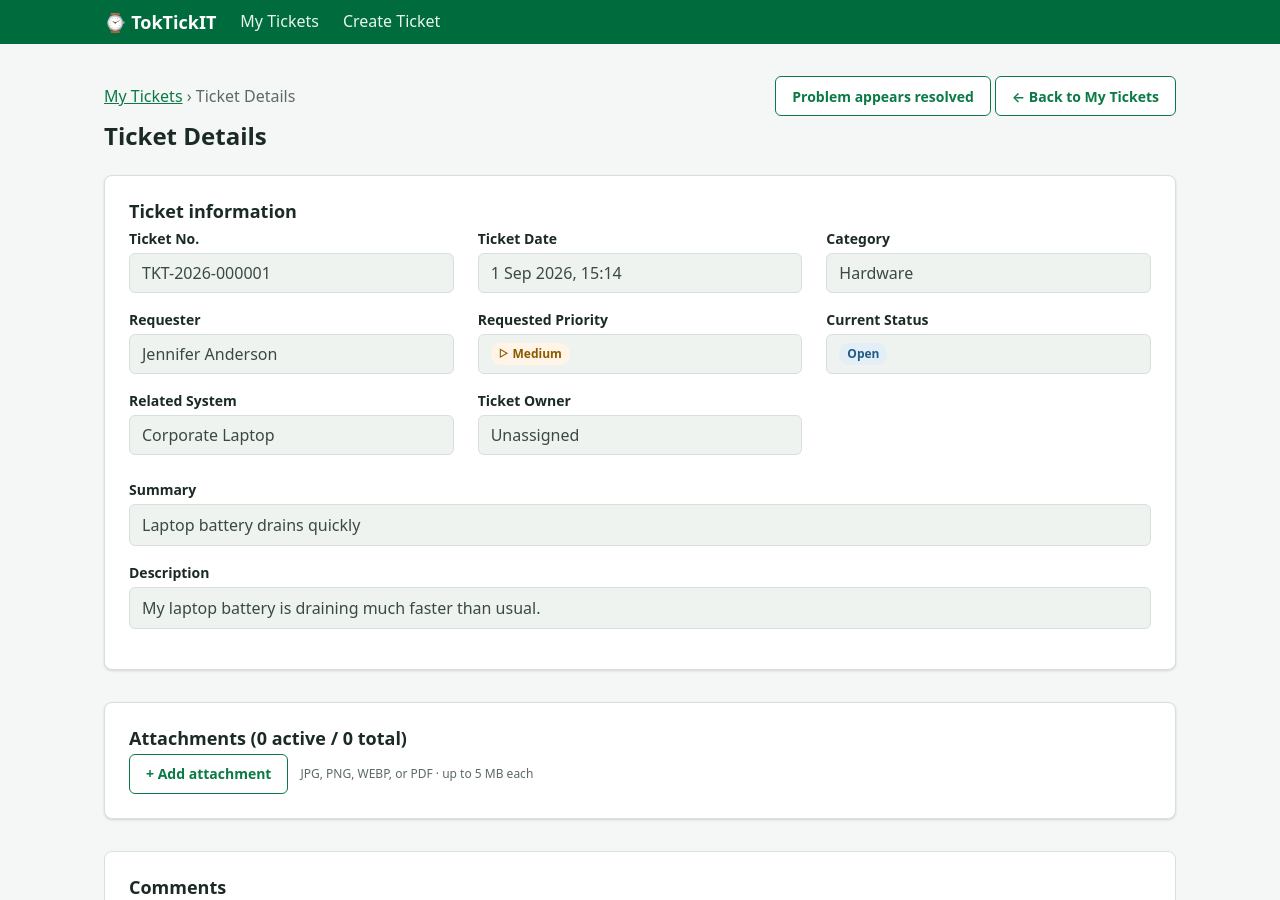
"Problem Appears Resolved" (ui-spec.md §7) › a 409 conflict closes the dialog and shows the exact conflict banner with a Refresh action; Refresh re-fetches the ticket
Expected: the text "TKT-2026-000001" is shown, [129, 253, 454, 293]
Click the button "Problem appears resolved": {"x": 883, "y": 96} [775, 76, 991, 116]
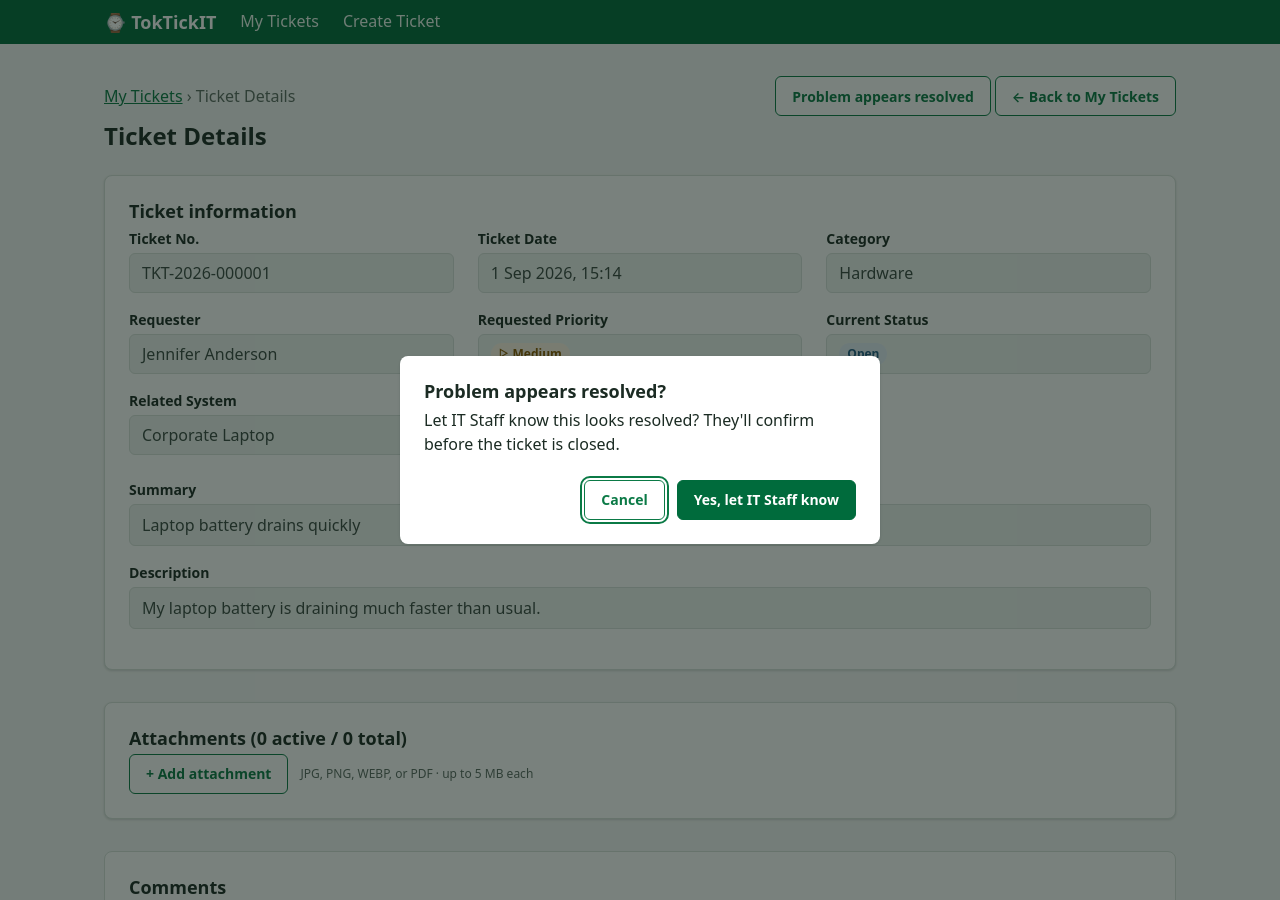
Expected: the dialog is shown, [400, 356, 880, 544]
Click the button "Yes, let IT Staff know": {"x": 766, "y": 500} [677, 480, 856, 520]
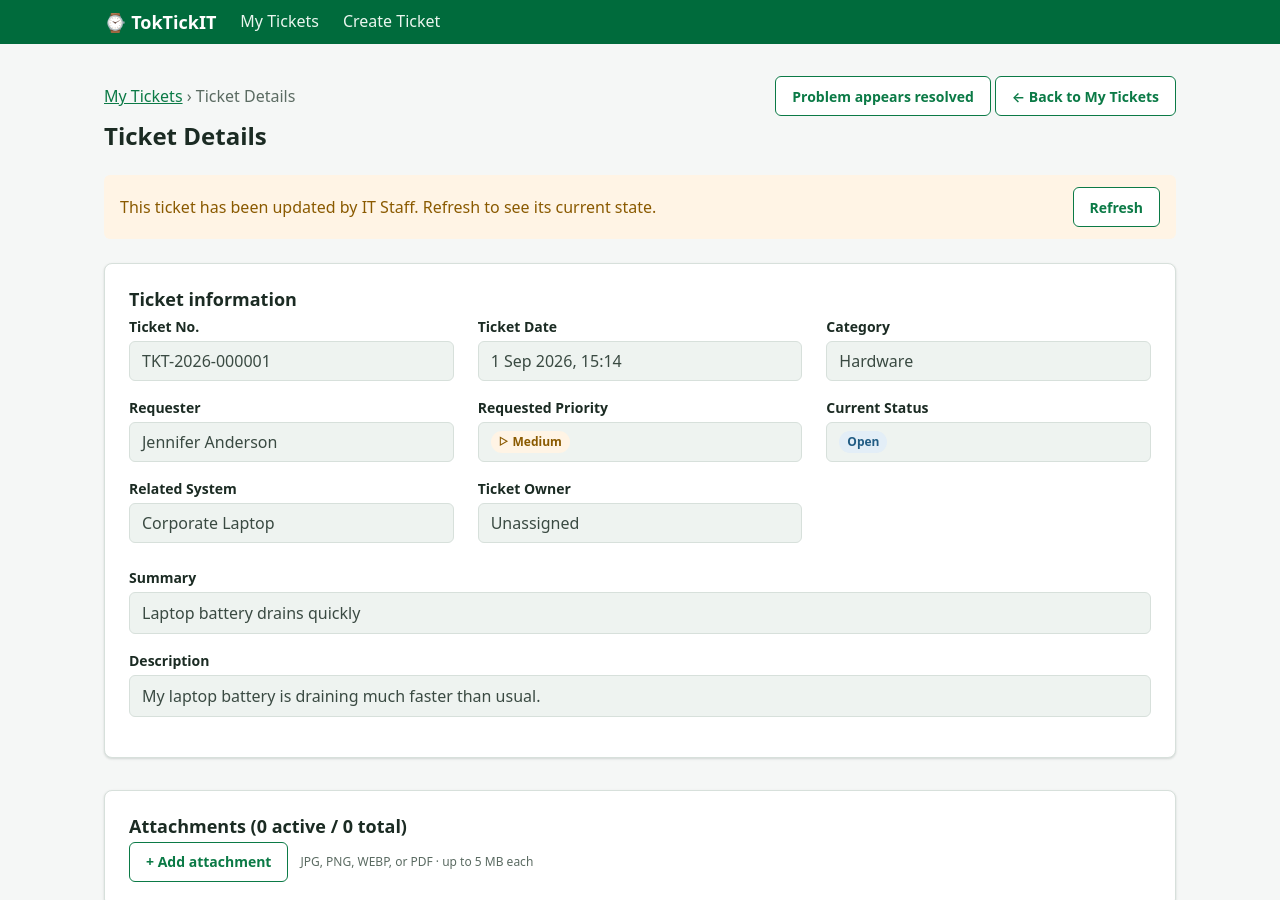
Expected: the message shows "This ticket has been updated by IT Staff. Refresh to see its current state.", [120, 196, 656, 218]
Expected: the dialog is gone
Click the button "Refresh": {"x": 1116, "y": 207} [1072, 187, 1160, 227]
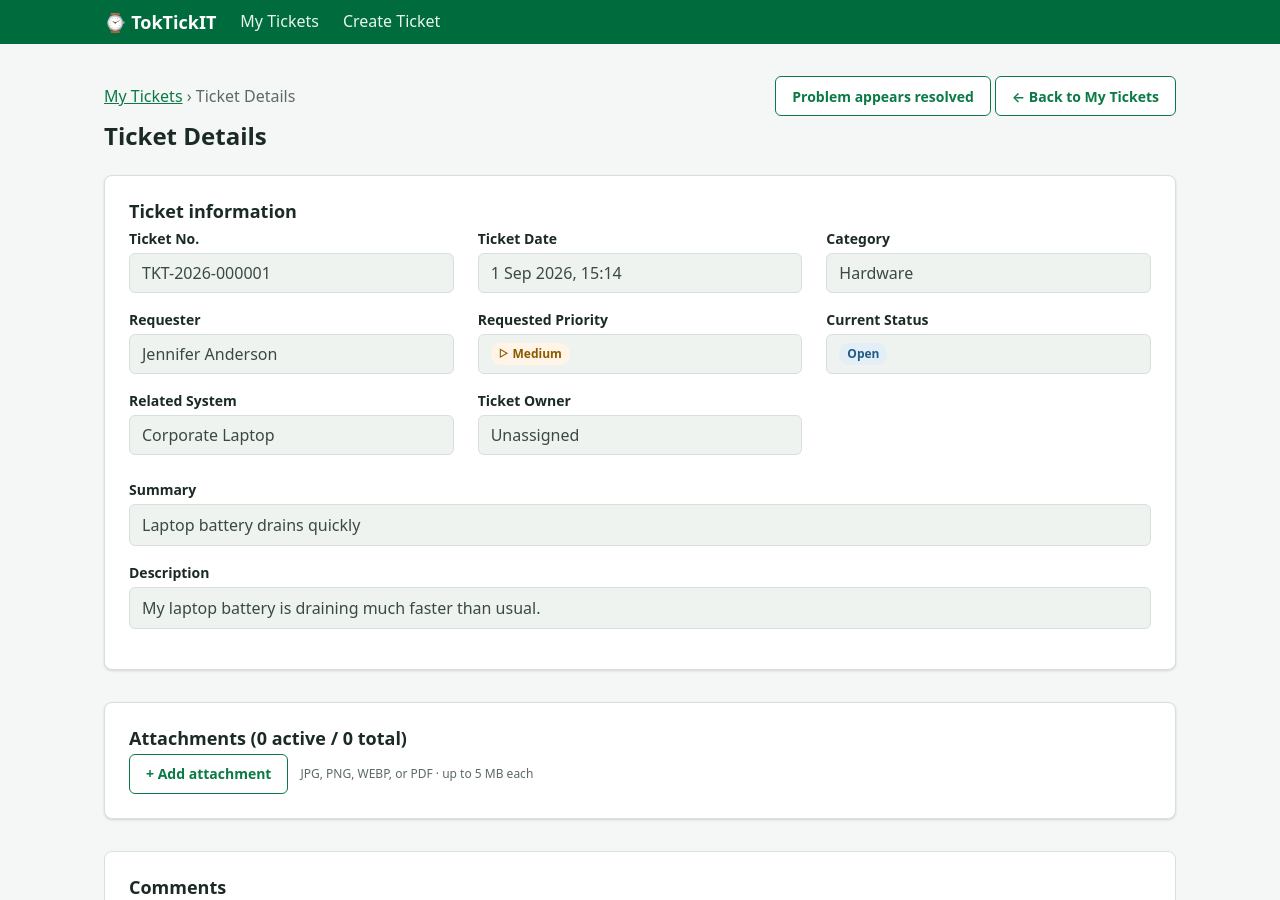
Expected: the text "TKT-2026-000001" is shown, [129, 253, 454, 293]
Expected: the message is gone
